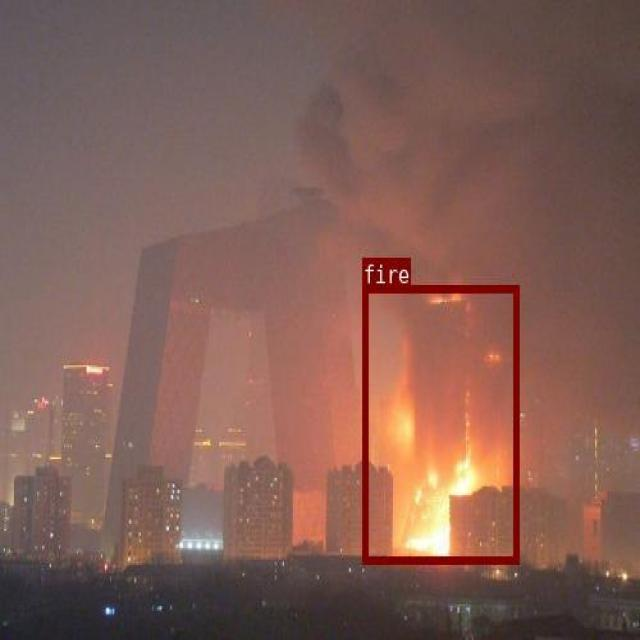fire: (362, 285, 518, 562)
